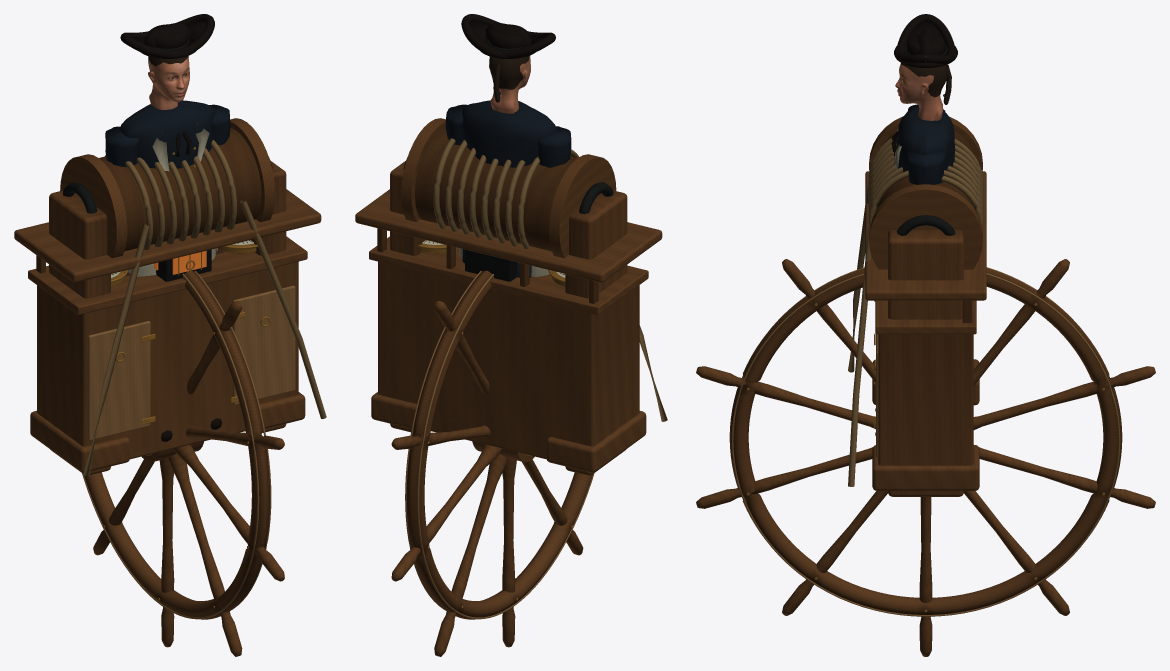
Rendered from quarterdeck-detail.glb.
The picture shows the model from 3 angles, left to right: view 1: azimuth 30°, elevation 25°; view 2: azimuth 150°, elevation 25°; view 3: azimuth 270°, elevation 25°; orthographic projection.
Visible parts, largest first — view 1: authored_binnacle · Hand-worn oak, authored_wheel_stand · Hand-worn oak, authored_binnacle · Cut oak end grain, authored_wheel · Hand-worn oak, authored_wheel_stand · Laid hemp, authored_officer · Indigo wool, Spoke and hand grip.004, authored_wheel · Cut oak end grain, head.001 · Hair and leather, Spoke and hand grip.005, Spoke and hand grip.003, Anatomical head - MakeHuman CC0.001 (+12 smaller); view 2: authored_binnacle · Hand-worn oak, authored_wheel_stand · Hand-worn oak, authored_wheel · Hand-worn oak, authored_wheel_stand · Laid hemp, authored_officer · Indigo wool, Spoke and hand grip.006, authored_wheel · Cut oak end grain, head.001 · Hair and leather, Spoke and hand grip.005, Spoke and hand grip.007, Spoke and hand grip.004, Jacket sleeve.002 (+9 smaller); view 3: authored_binnacle · Hand-worn oak, authored_wheel · Hand-worn oak, authored_wheel_stand · Hand-worn oak, authored_wheel_stand · Laid hemp, authored_wheel · Cut oak end grain, authored_officer · Indigo wool, Spoke and hand grip.008, Spoke and hand grip.002, Spoke and hand grip.007, Spoke and hand grip.003, head.001 · Hair and leather, Spoke and hand grip.005 (+9 smaller).
Boxes of the visible parts, x1,y1,x2,y2 form: authored_binnacle · Hand-worn oak: (14, 189, 321, 459); authored_wheel_stand · Hand-worn oak: (30, 118, 305, 474); authored_binnacle · Cut oak end grain: (88, 285, 295, 440); authored_wheel · Hand-worn oak: (84, 271, 269, 619); authored_wheel_stand · Laid hemp: (83, 140, 326, 476); authored_officer · Indigo wool: (120, 100, 214, 168); Spoke and hand grip.004: (168, 454, 242, 656); authored_wheel · Cut oak end grain: (82, 271, 271, 619); head.001 · Hair and leather: (120, 14, 214, 58); Spoke and hand grip.005: (159, 458, 174, 647); Spoke and hand grip.003: (174, 444, 284, 581); Anatomical head - MakeHuman CC0.001: (148, 57, 189, 109); authored_binnacle · Hand-worn oak: (355, 189, 662, 459); authored_wheel_stand · Hand-worn oak: (371, 118, 646, 475); authored_wheel · Hand-worn oak: (406, 270, 592, 619); authored_wheel_stand · Laid hemp: (433, 138, 667, 421); authored_officer · Indigo wool: (462, 100, 557, 277); Spoke and hand grip.006: (434, 454, 508, 656); authored_wheel · Cut oak end grain: (405, 271, 594, 619); head.001 · Hair and leather: (461, 14, 555, 58); Spoke and hand grip.005: (502, 458, 516, 647); Spoke and hand grip.007: (391, 444, 502, 581); Spoke and hand grip.004: (522, 459, 583, 555); Jacket sleeve.002: (538, 126, 571, 167); authored_binnacle · Hand-worn oak: (865, 171, 986, 465); authored_wheel · Hand-worn oak: (729, 268, 1122, 614); authored_wheel_stand · Hand-worn oak: (869, 116, 982, 496); authored_wheel_stand · Laid hemp: (848, 137, 983, 486); authored_wheel · Cut oak end grain: (731, 267, 1120, 616); authored_officer · Indigo wool: (894, 105, 954, 171); Spoke and hand grip.008: (973, 366, 1155, 429); Spoke and hand grip.002: (696, 366, 875, 429); Spoke and hand grip.007: (979, 447, 1155, 508); Spoke and hand grip.003: (696, 447, 872, 508); head.001 · Hair and leather: (897, 14, 954, 64); Spoke and hand grip.005: (919, 497, 932, 656).
Size of the model in its own units: 1.15 by 2.75 by 1.84.
Materials: 17 (16 with a texture image).
